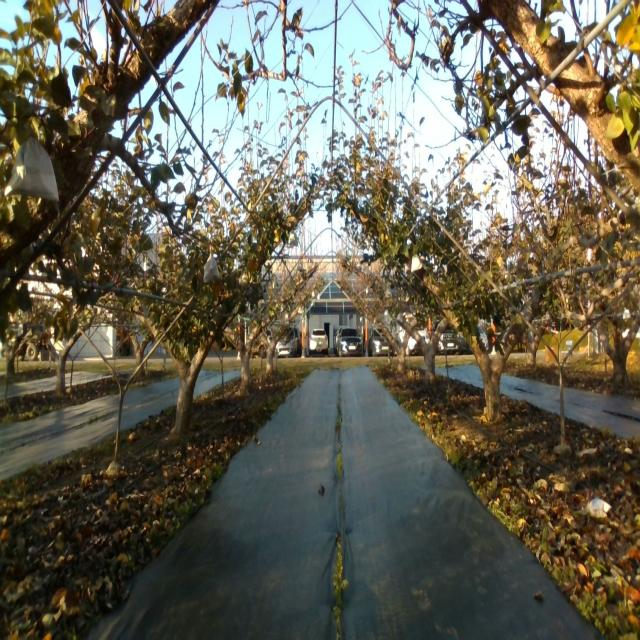pearbags: (5, 138, 59, 201), (203, 253, 220, 283), (411, 255, 422, 272)
